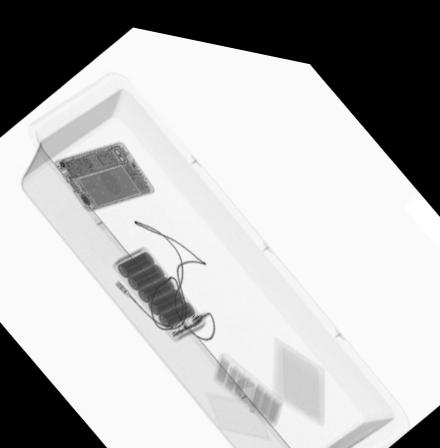Powerbank: (108, 236, 209, 335)
